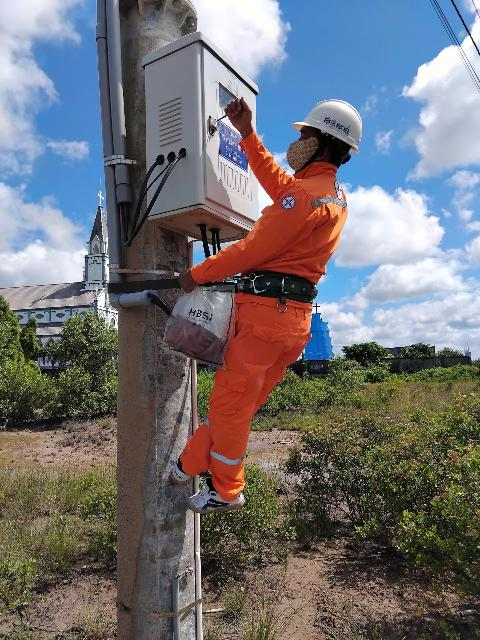harness: (172, 260, 326, 313)
helmet: (292, 83, 377, 151)
shoes: (182, 479, 252, 517), (164, 441, 202, 484)
